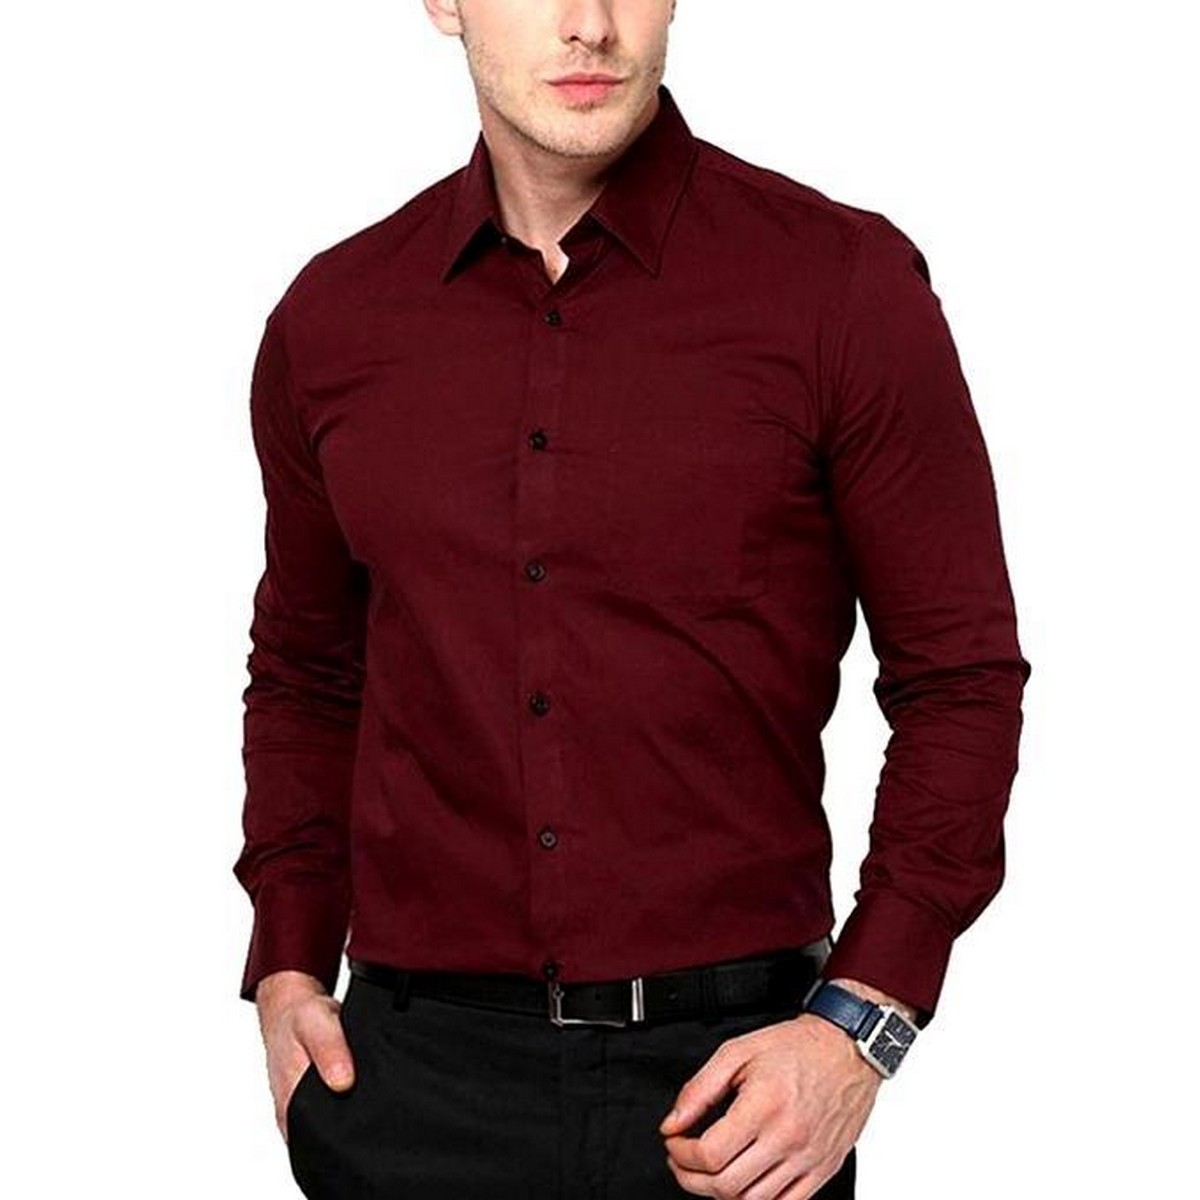long-sleeved official shirt: (249, 127, 984, 1005)
